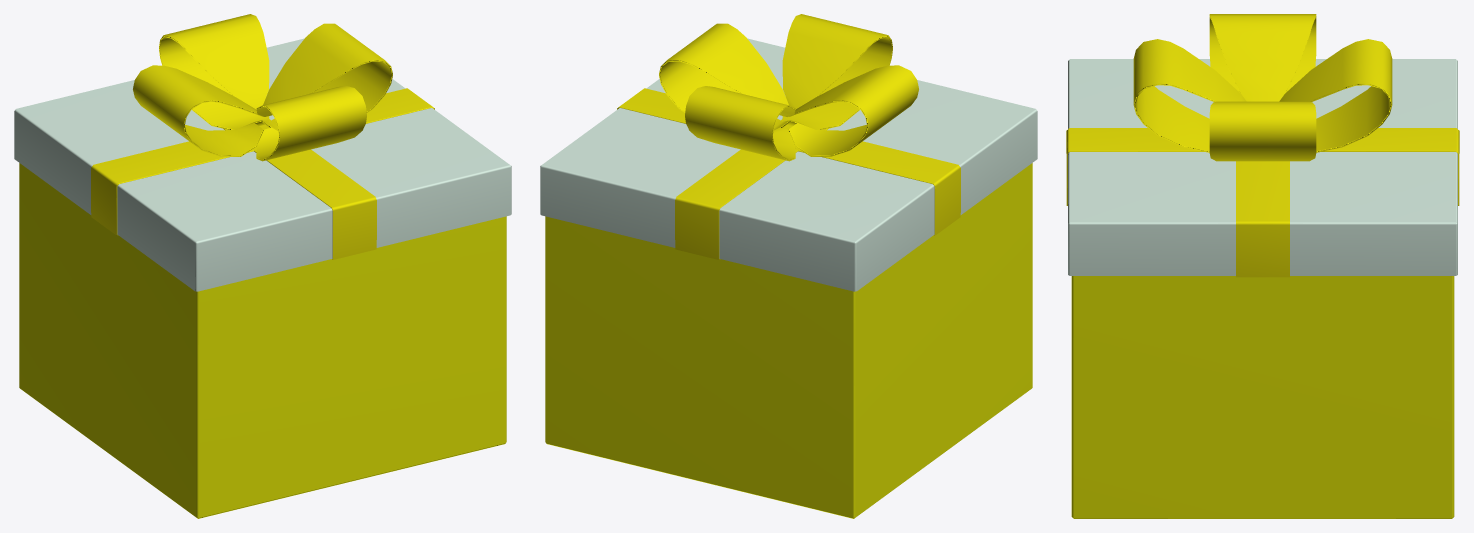
The model's file is gift_yellow.glb.
3 renders of one model, left to right at view 1: azimuth 30°, elevation 25°; view 2: azimuth 150°, elevation 25°; view 3: azimuth 270°, elevation 25°, orthographic. The views are drawn at different scales.
Parts seen in each view (by area): view 1: SK_GiftBox.002, SK_GiftBox.001, SK_GiftBox; view 2: SK_GiftBox.002, SK_GiftBox.001, SK_GiftBox; view 3: SK_GiftBox.002, SK_GiftBox.001, SK_GiftBox.
Part boxes in pixels (x1,y1,x2,y2): SK_GiftBox.002: [19, 163, 506, 518]; SK_GiftBox.001: [14, 38, 511, 291]; SK_GiftBox: [91, 14, 434, 259]; SK_GiftBox.002: [545, 163, 1032, 518]; SK_GiftBox.001: [540, 38, 1037, 291]; SK_GiftBox: [617, 14, 960, 259]; SK_GiftBox.002: [1071, 276, 1454, 518]; SK_GiftBox.001: [1068, 59, 1457, 275]; SK_GiftBox: [1066, 14, 1459, 277].
Size of the model in its own units: 1.88 by 2 by 1.88.
